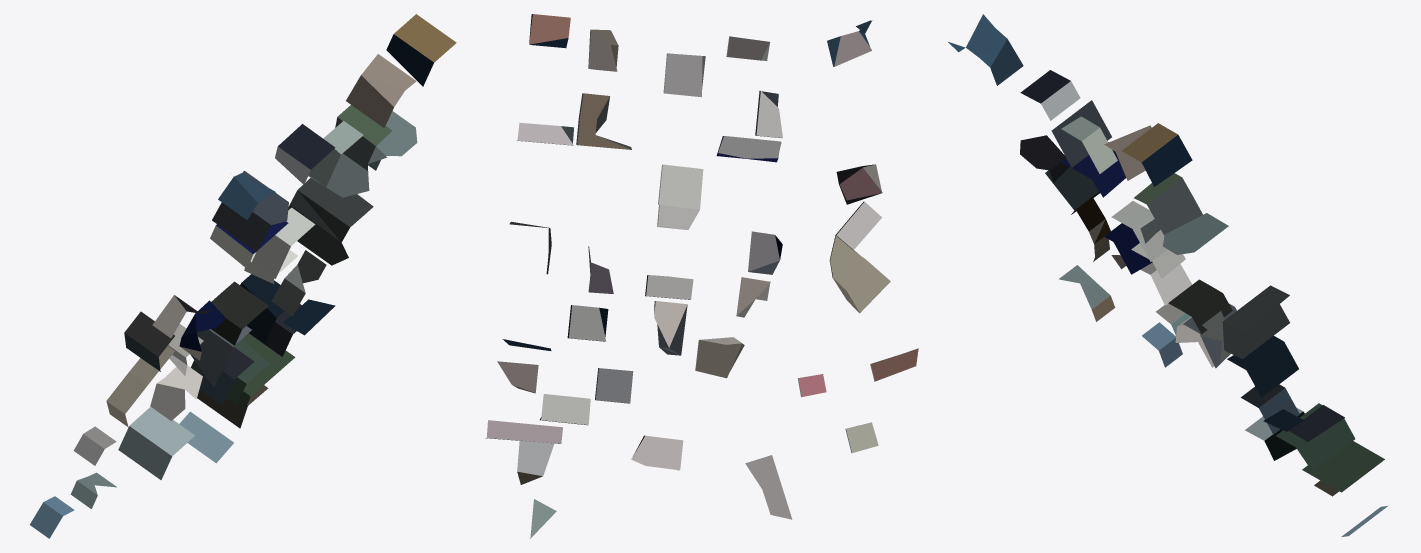
3 renders of one model, left to right at view 1: azimuth 30°, elevation 25°; view 2: azimuth 150°, elevation 25°; view 3: azimuth 270°, elevation 25°, orthographic. The views are drawn at different scales.
Bounding box in the file's own units: 122 × 137 × 124.
